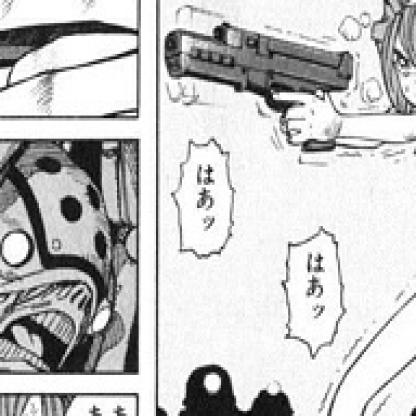gun: (171, 3, 355, 159)
